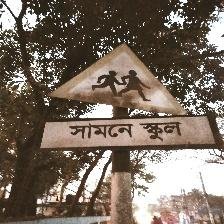School-in-front: (38, 40, 219, 151)
